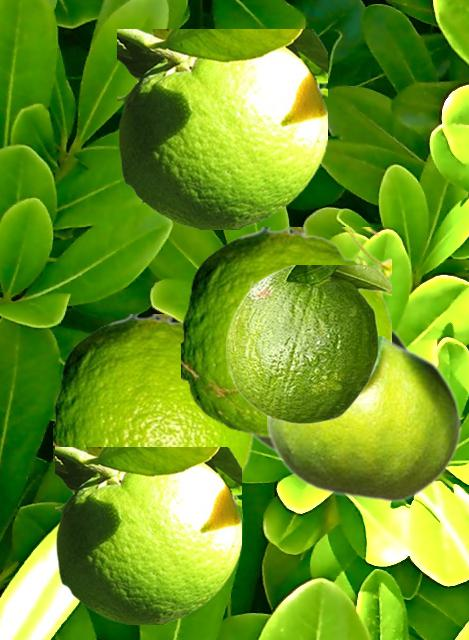dalandan: (181, 227, 390, 438), (117, 29, 326, 228), (53, 314, 252, 480), (55, 447, 240, 623), (267, 336, 461, 502), (225, 265, 391, 423), (253, 325, 411, 453)
